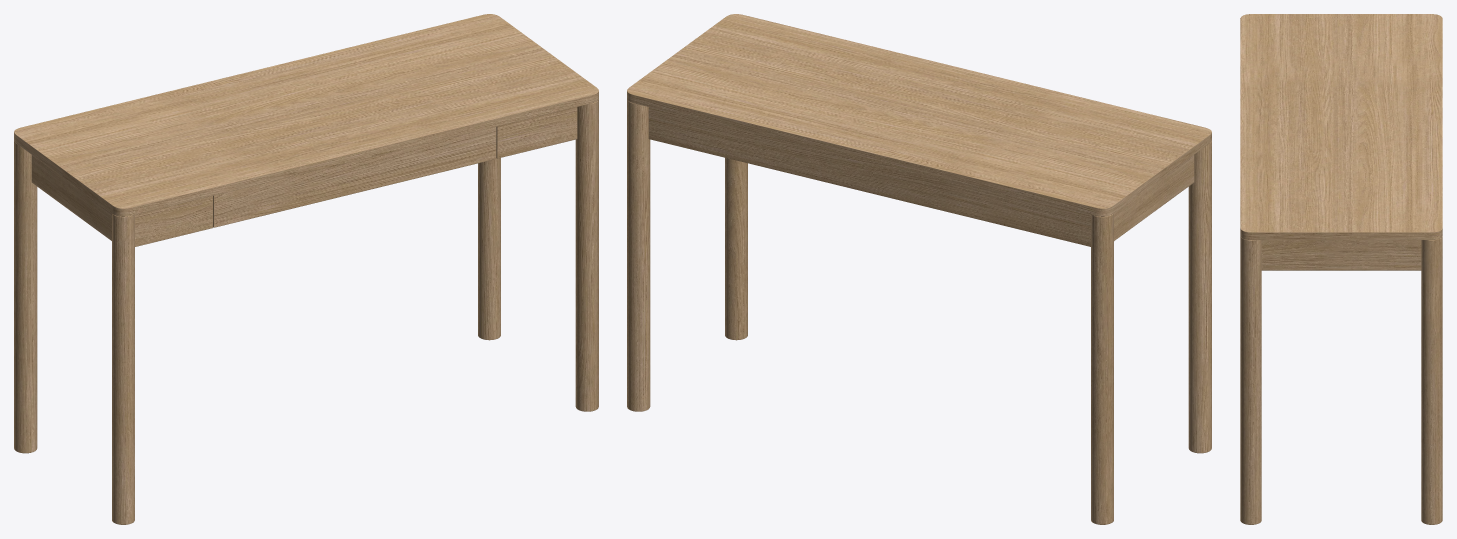
3 views of the same model, side by side, from view 1: azimuth 30°, elevation 25°; view 2: azimuth 150°, elevation 25°; view 3: azimuth 270°, elevation 25° (orthographic). The views are drawn at different scales.
Parts seen in each view (by area): view 1: 60538205_desk; view 2: 60538205_desk; view 3: 60538205_desk.
Part boxes in pixels (left/top/right/bottom): 60538205_desk: left=14, top=14, right=598, bottom=524; 60538205_desk: left=627, top=14, right=1211, bottom=524; 60538205_desk: left=1240, top=14, right=1442, bottom=524.
Bounding box in the file's own units: 1.2 × 0.75 × 0.47.
1 material, 1 textured.
